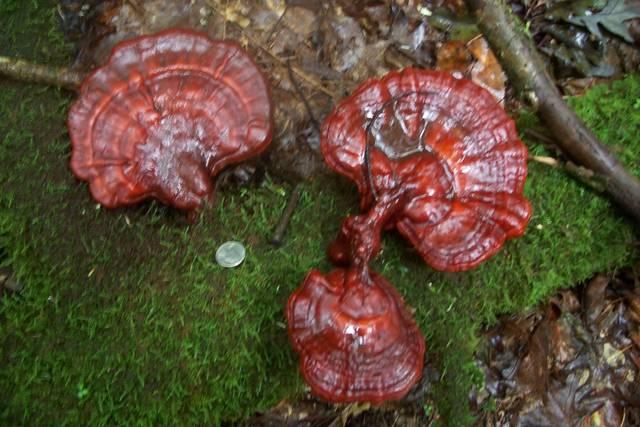Non-edible Mushroom: (318, 65, 533, 273), (65, 26, 275, 222), (281, 266, 432, 419)
